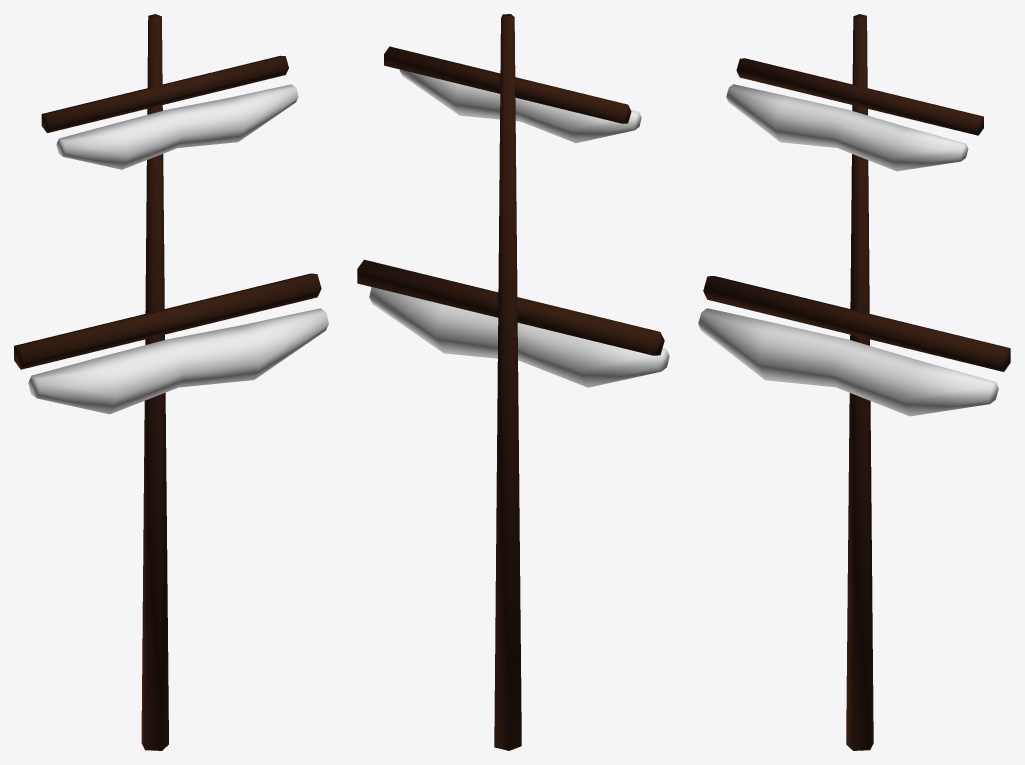
The model's file is mizzenmast-furled.obj.
3 renders of one model, left to right at view 1: azimuth 30°, elevation 25°; view 2: azimuth 150°, elevation 25°; view 3: azimuth 330°, elevation 25°, orthographic.
Parts seen in each view (by area): view 1: Cylinder.072_Cylinder.011_SailCloth, Cylinder.078_Cylinder_Wood, Cylinder.081_Cylinder.011_SailCloth, Cylinder.079_Cylinder.001_Wood, Cylinder.080_Cylinder.001_Wood; view 2: Cylinder.078_Cylinder_Wood, Cylinder.072_Cylinder.011_SailCloth, Cylinder.079_Cylinder.001_Wood, Cylinder.081_Cylinder.011_SailCloth, Cylinder.080_Cylinder.001_Wood; view 3: Cylinder.072_Cylinder.011_SailCloth, Cylinder.078_Cylinder_Wood, Cylinder.081_Cylinder.011_SailCloth, Cylinder.079_Cylinder.001_Wood, Cylinder.080_Cylinder.001_Wood.
Boxes of the visible parts, x1,y1,x2,y2 form: Cylinder.072_Cylinder.011_SailCloth: (28, 308, 328, 414); Cylinder.078_Cylinder_Wood: (141, 14, 168, 750); Cylinder.081_Cylinder.011_SailCloth: (56, 84, 298, 169); Cylinder.079_Cylinder.001_Wood: (14, 273, 321, 369); Cylinder.080_Cylinder.001_Wood: (41, 55, 288, 132); Cylinder.078_Cylinder_Wood: (494, 14, 521, 750); Cylinder.072_Cylinder.011_SailCloth: (369, 287, 669, 387); Cylinder.079_Cylinder.001_Wood: (357, 259, 664, 355); Cylinder.081_Cylinder.011_SailCloth: (399, 69, 641, 143); Cylinder.080_Cylinder.001_Wood: (384, 46, 631, 123); Cylinder.072_Cylinder.011_SailCloth: (698, 308, 998, 416); Cylinder.078_Cylinder_Wood: (846, 14, 873, 750); Cylinder.081_Cylinder.011_SailCloth: (726, 84, 968, 171); Cylinder.079_Cylinder.001_Wood: (703, 276, 1010, 371); Cylinder.080_Cylinder.001_Wood: (736, 58, 983, 135).
Bounding box in the file's own units: 1.62 × 3.8 × 0.3615.
